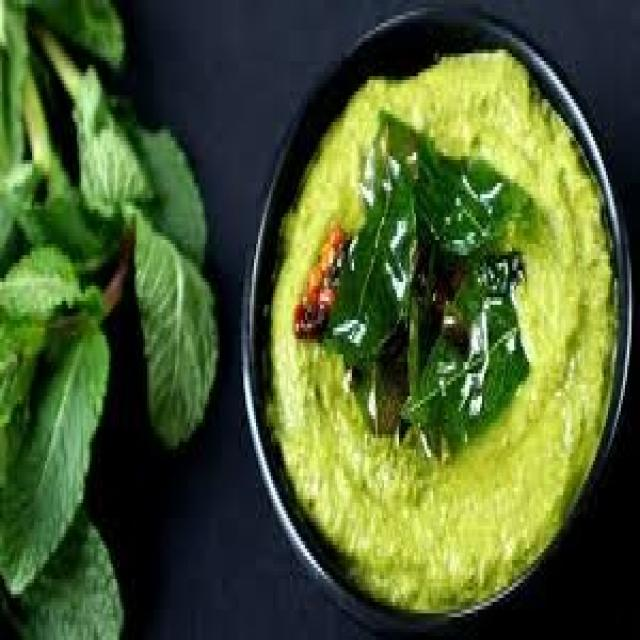puthina chutney: (238, 4, 638, 640)
